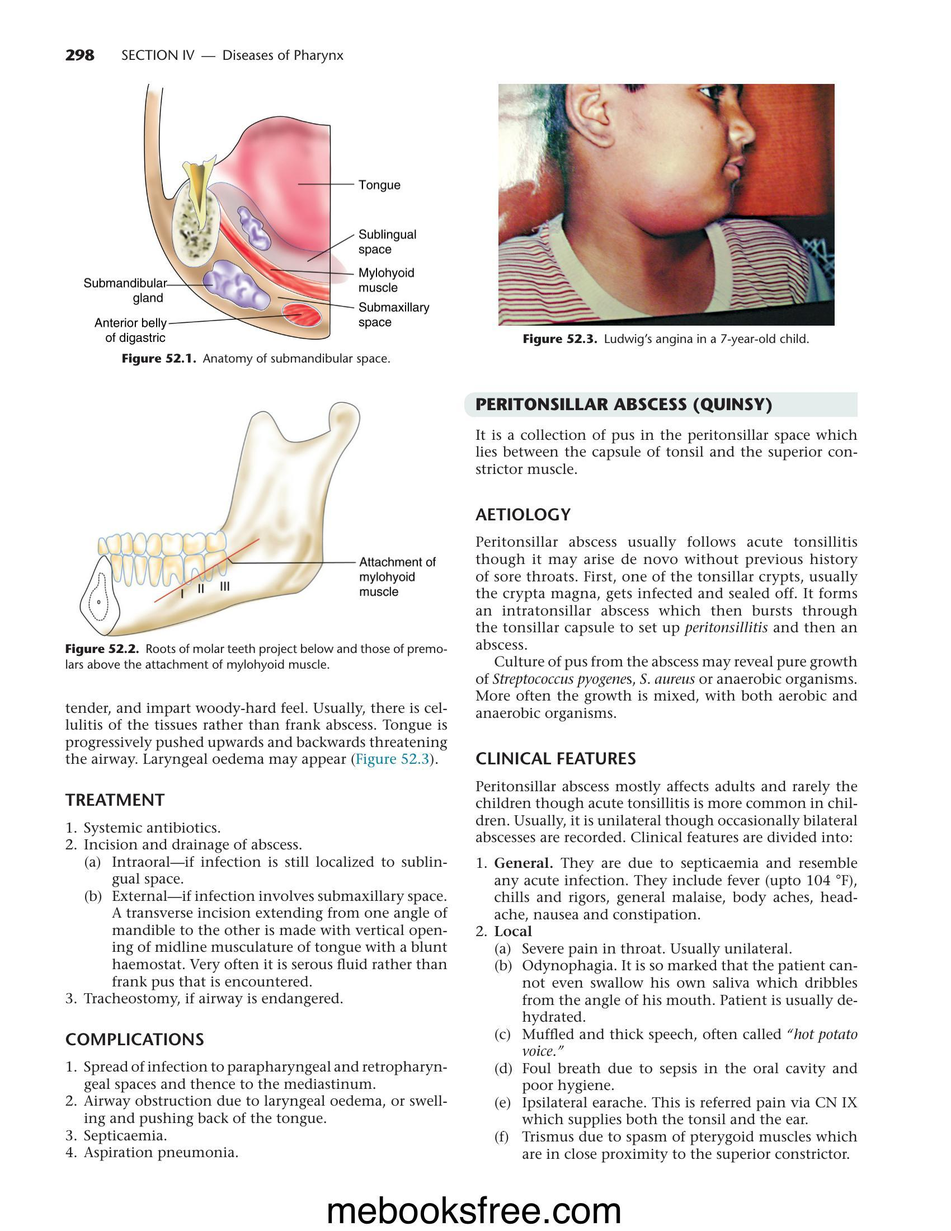caption: (65, 642, 449, 673), (522, 332, 809, 347), (120, 352, 391, 367)
header: (121, 48, 344, 65)
image: (76, 78, 442, 350), (66, 395, 445, 640), (498, 83, 834, 327)
list: (473, 855, 860, 1166), (493, 939, 860, 1163), (64, 820, 450, 1008), (84, 855, 449, 992), (65, 1060, 448, 1162)
section-heading: (474, 396, 773, 415)
sub-section-heading: (475, 750, 637, 766), (64, 1031, 204, 1047), (63, 792, 166, 806), (474, 507, 571, 521)
text: (475, 535, 859, 723), (64, 701, 449, 769), (474, 779, 859, 844), (474, 427, 858, 475)
